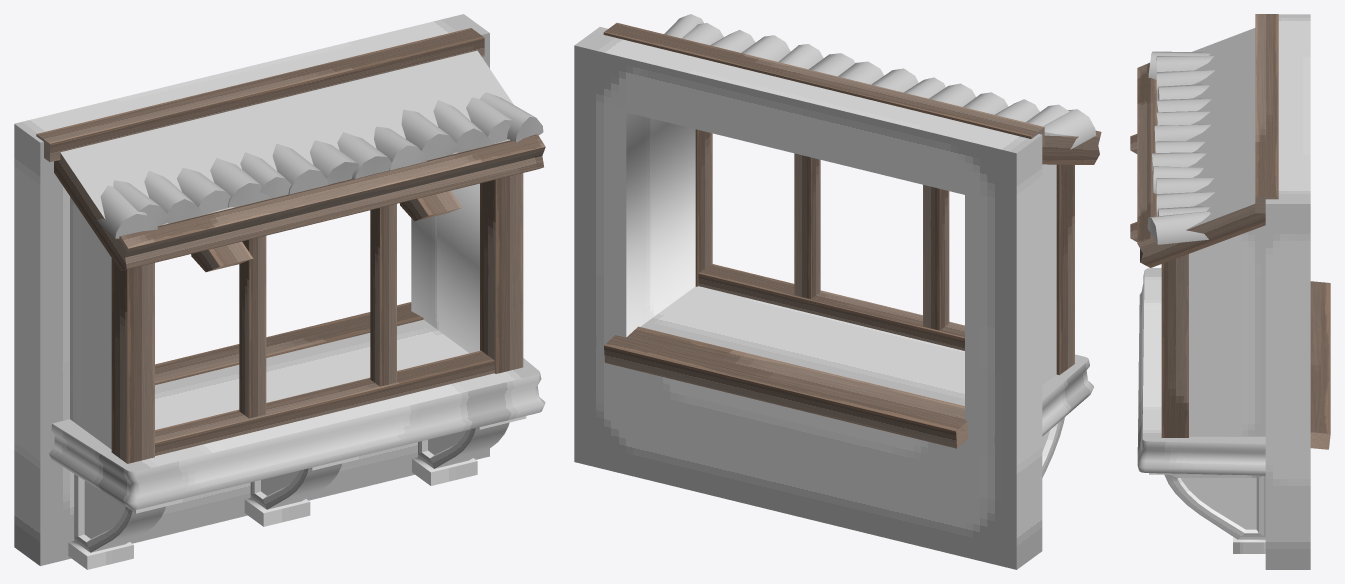
The model's file is SM_Wall_HouseWindow.fbx.
The picture shows the model from 3 angles, left to right: view 1: azimuth 30°, elevation 25°; view 2: azimuth 150°, elevation 25°; view 3: azimuth 270°, elevation 25°; orthographic projection. The views are drawn at different scales.
Parts seen in each view (by area): view 1: SM_Wall_HouseWindow_LOD0; view 2: SM_Wall_HouseWindow_LOD0; view 3: SM_Wall_HouseWindow_LOD0.
Boxes of the visible parts, left/top/right/bottom form: SM_Wall_HouseWindow_LOD0: left=14, top=14, right=545, bottom=569; SM_Wall_HouseWindow_LOD0: left=574, top=14, right=1101, bottom=569; SM_Wall_HouseWindow_LOD0: left=1130, top=14, right=1330, bottom=569.
Size of what is drawn, in the model's own units: 5 by 4.53 by 2.23.
